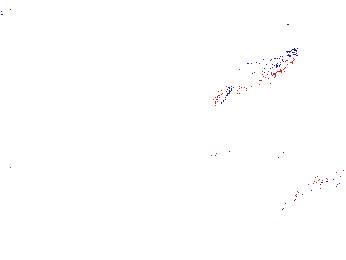glassfish: (281, 170, 346, 216)
redtail glassfish: (202, 44, 301, 109), (204, 141, 282, 165)
